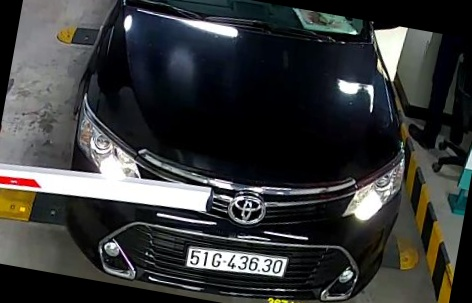plate: (185, 239, 289, 281)
